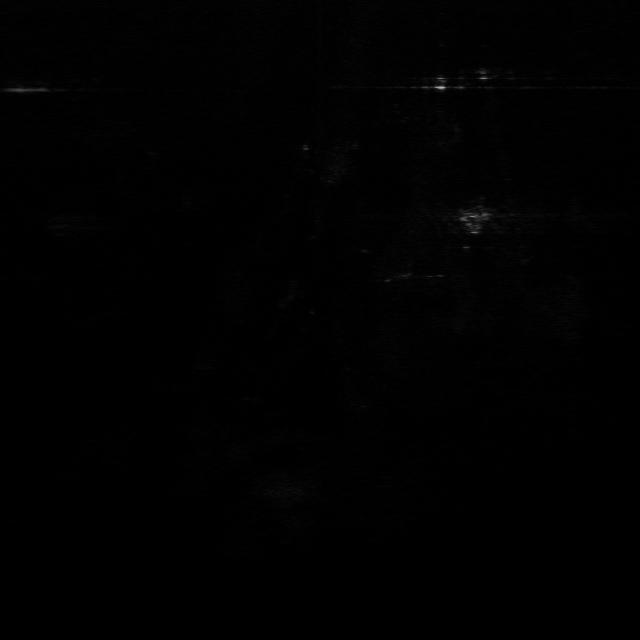rov: (456, 210, 496, 236)
